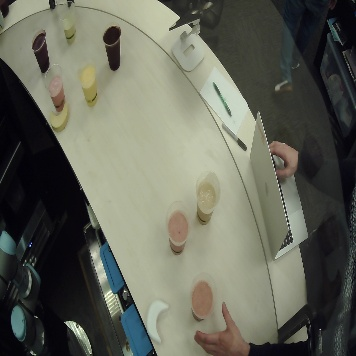full_cup: (164, 199, 191, 255), (194, 169, 221, 225), (190, 272, 215, 322), (43, 62, 67, 112), (100, 21, 123, 71), (76, 60, 99, 106), (55, 1, 78, 45), (30, 27, 50, 73)
puck: (145, 297, 169, 344), (49, 105, 70, 133)
